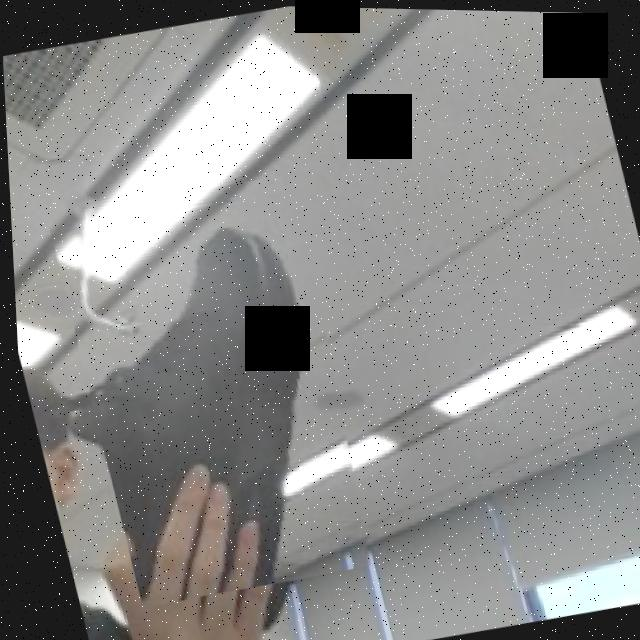shoe: (43, 167, 388, 611)
